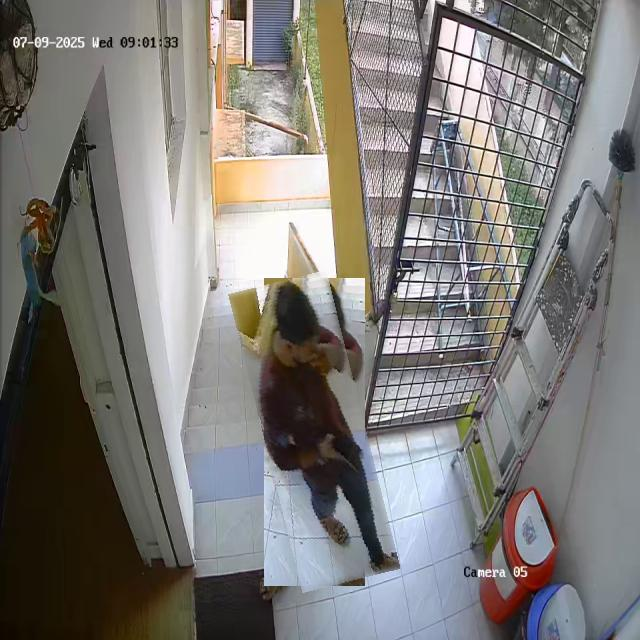person: (246, 274, 383, 590)
